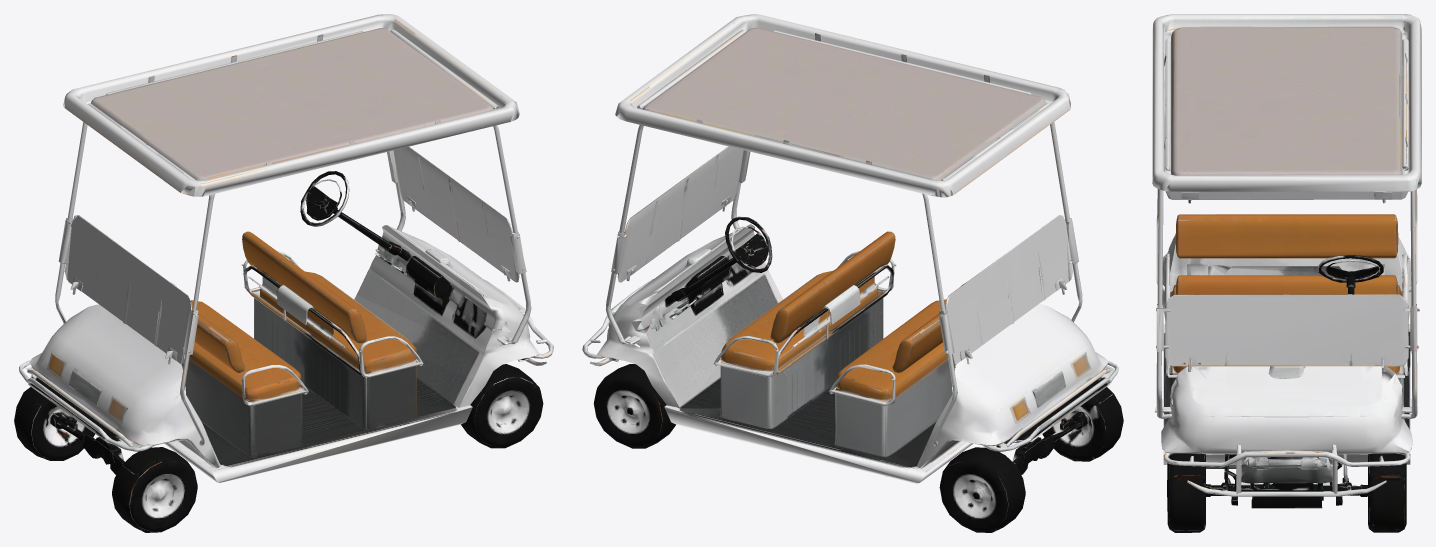
Rendered from golfcart.glb.
The picture shows the model from 3 angles, left to right: view 1: azimuth 30°, elevation 25°; view 2: azimuth 150°, elevation 25°; view 3: azimuth 270°, elevation 25°; orthographic projection.
Parts seen in each view (by area): view 1: golfcart, wheel-3, wheel-0, wheel-2; view 2: golfcart, wheel-2, wheel-1, wheel-3; view 3: golfcart, wheel-1, wheel-0.
Part boxes in pixels (x1,y1,x2,y2): golfcart: [19, 14, 553, 482]; wheel-3: [112, 447, 197, 532]; wheel-0: [461, 364, 543, 448]; wheel-2: [14, 387, 94, 460]; golfcart: [582, 14, 1118, 483]; wheel-2: [939, 447, 1025, 532]; wheel-1: [593, 364, 675, 448]; wheel-3: [1042, 387, 1123, 461]; golfcart: [1152, 14, 1421, 508]; wheel-1: [1368, 453, 1406, 532]; wheel-0: [1167, 453, 1205, 532].
Size of the model in its own units: 2.63 by 1.98 by 1.36.
1 material, 1 textured.
